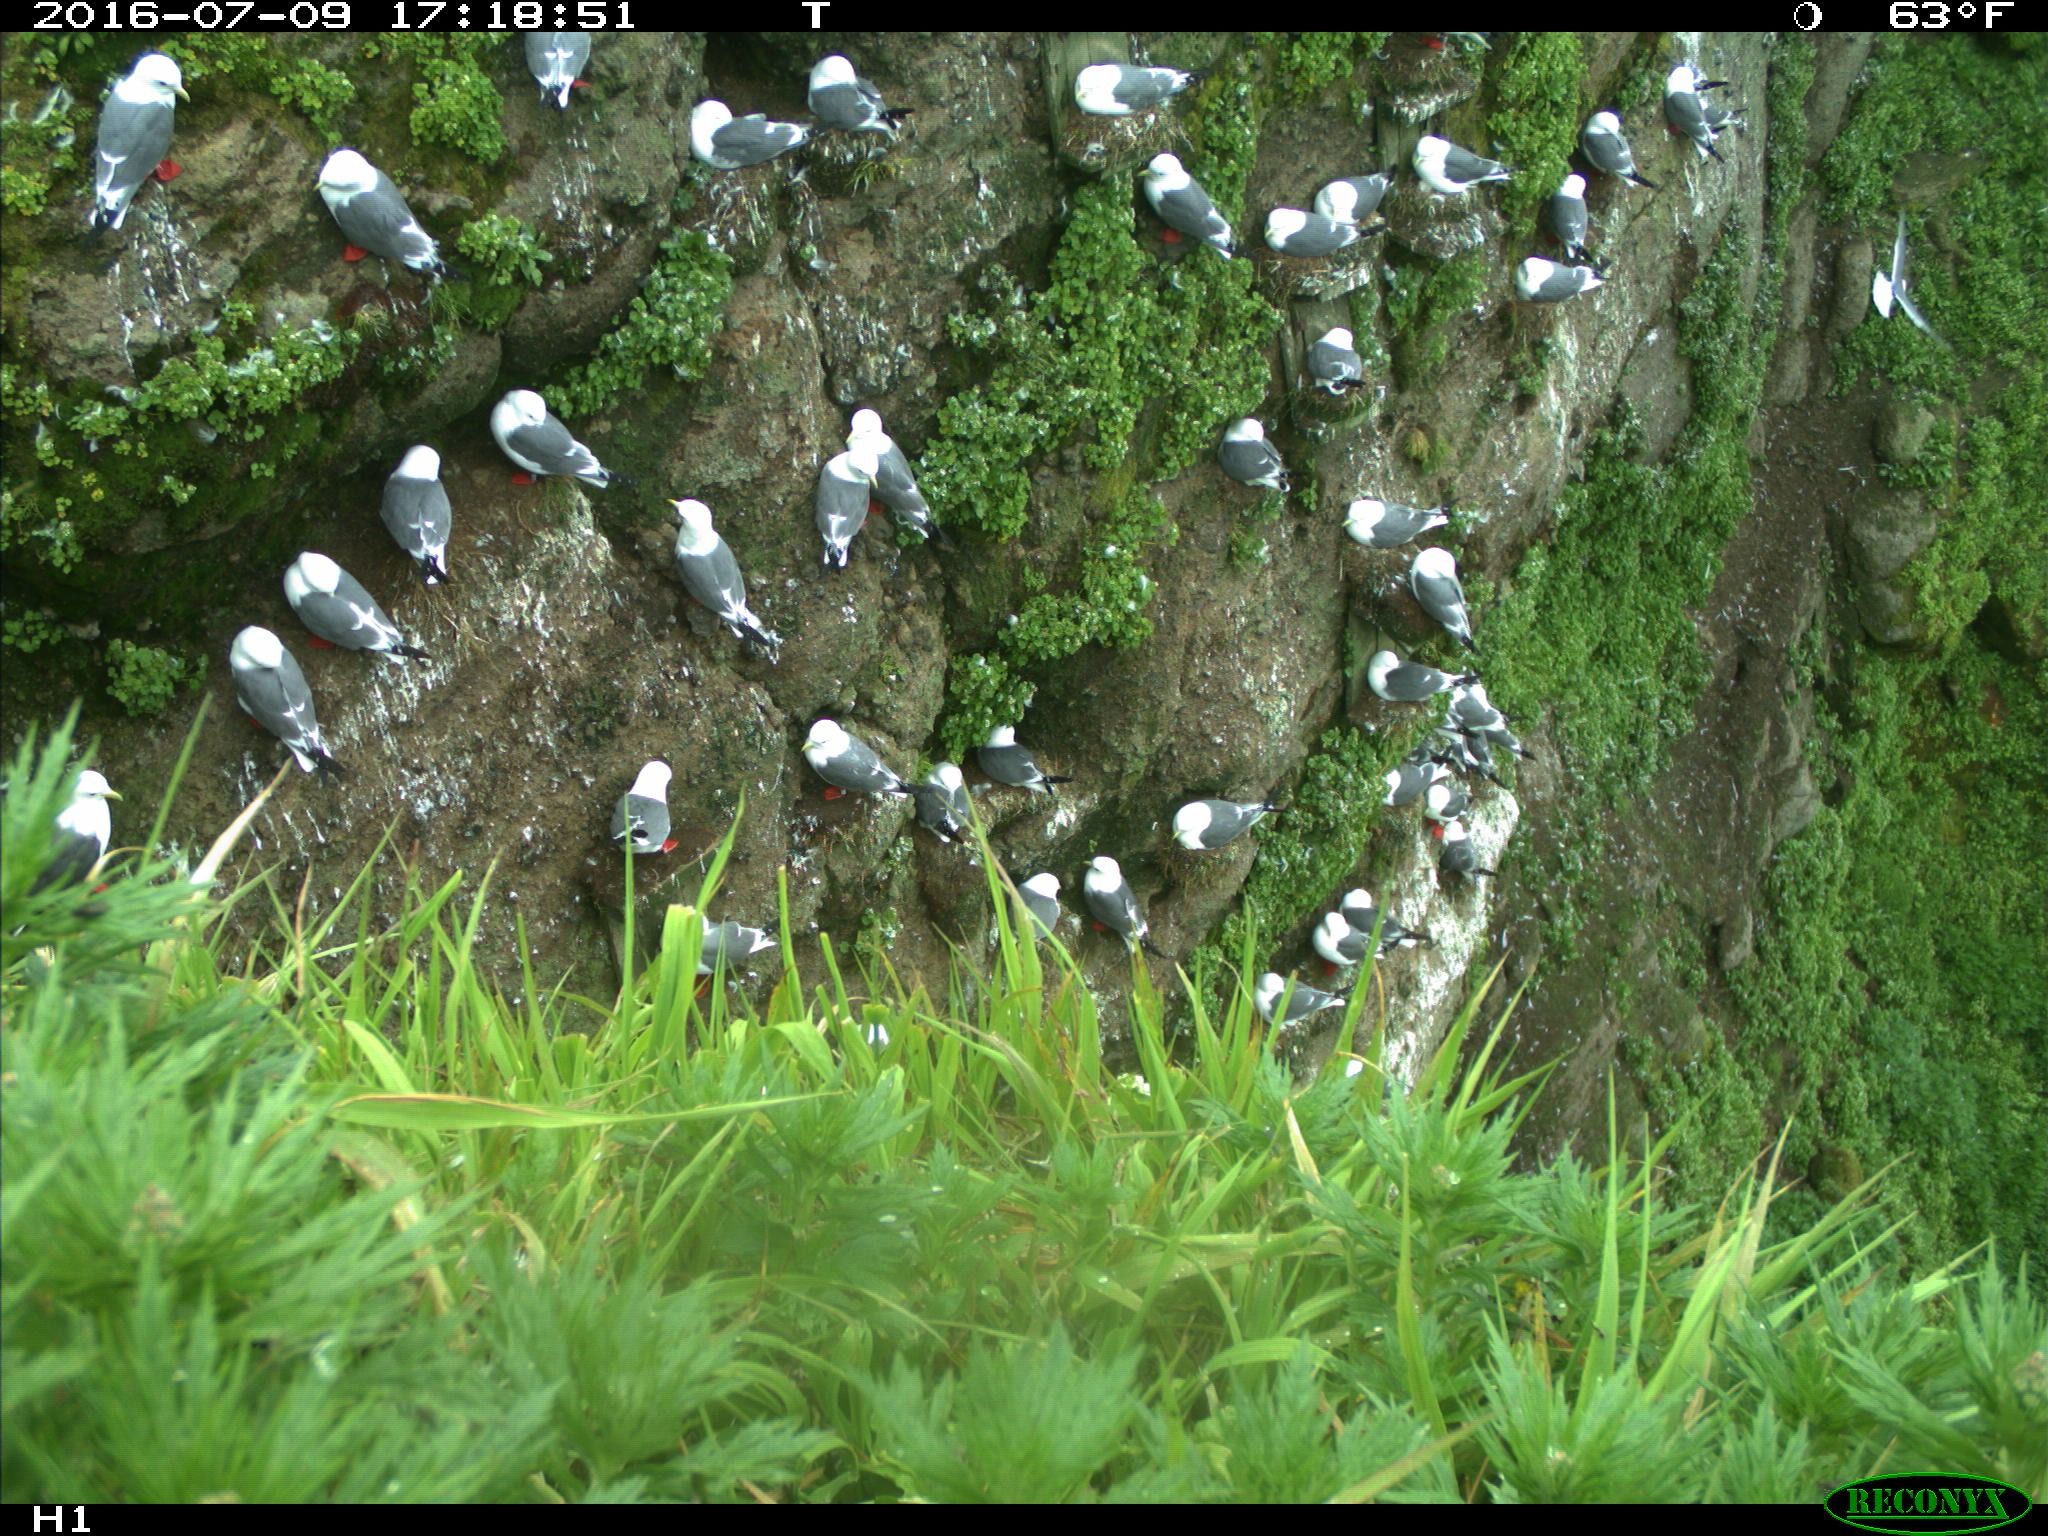Kittiwake: (68, 48, 194, 257), (290, 116, 434, 298), (258, 529, 447, 666), (198, 620, 379, 762), (637, 479, 774, 663), (352, 424, 543, 555), (506, 779, 684, 908), (1116, 136, 1251, 286), (780, 703, 905, 862), (32, 750, 150, 913), (476, 366, 634, 487), (668, 81, 840, 187), (821, 413, 943, 557), (1192, 395, 1335, 511), (1056, 52, 1234, 145), (790, 40, 924, 161), (1155, 776, 1300, 883), (1405, 511, 1509, 653), (1630, 66, 1751, 182), (977, 678, 1072, 821), (1230, 950, 1366, 1050), (1529, 158, 1658, 260), (1384, 116, 1501, 227), (1063, 845, 1164, 971), (1485, 240, 1617, 323), (1263, 189, 1385, 278), (898, 750, 989, 870), (1284, 307, 1380, 413), (1342, 466, 1417, 599), (1337, 642, 1471, 715), (1563, 94, 1659, 187), (993, 855, 1076, 962), (1387, 753, 1479, 842), (1338, 866, 1426, 950), (1308, 153, 1408, 224), (1292, 907, 1387, 978), (516, 31, 608, 102)
